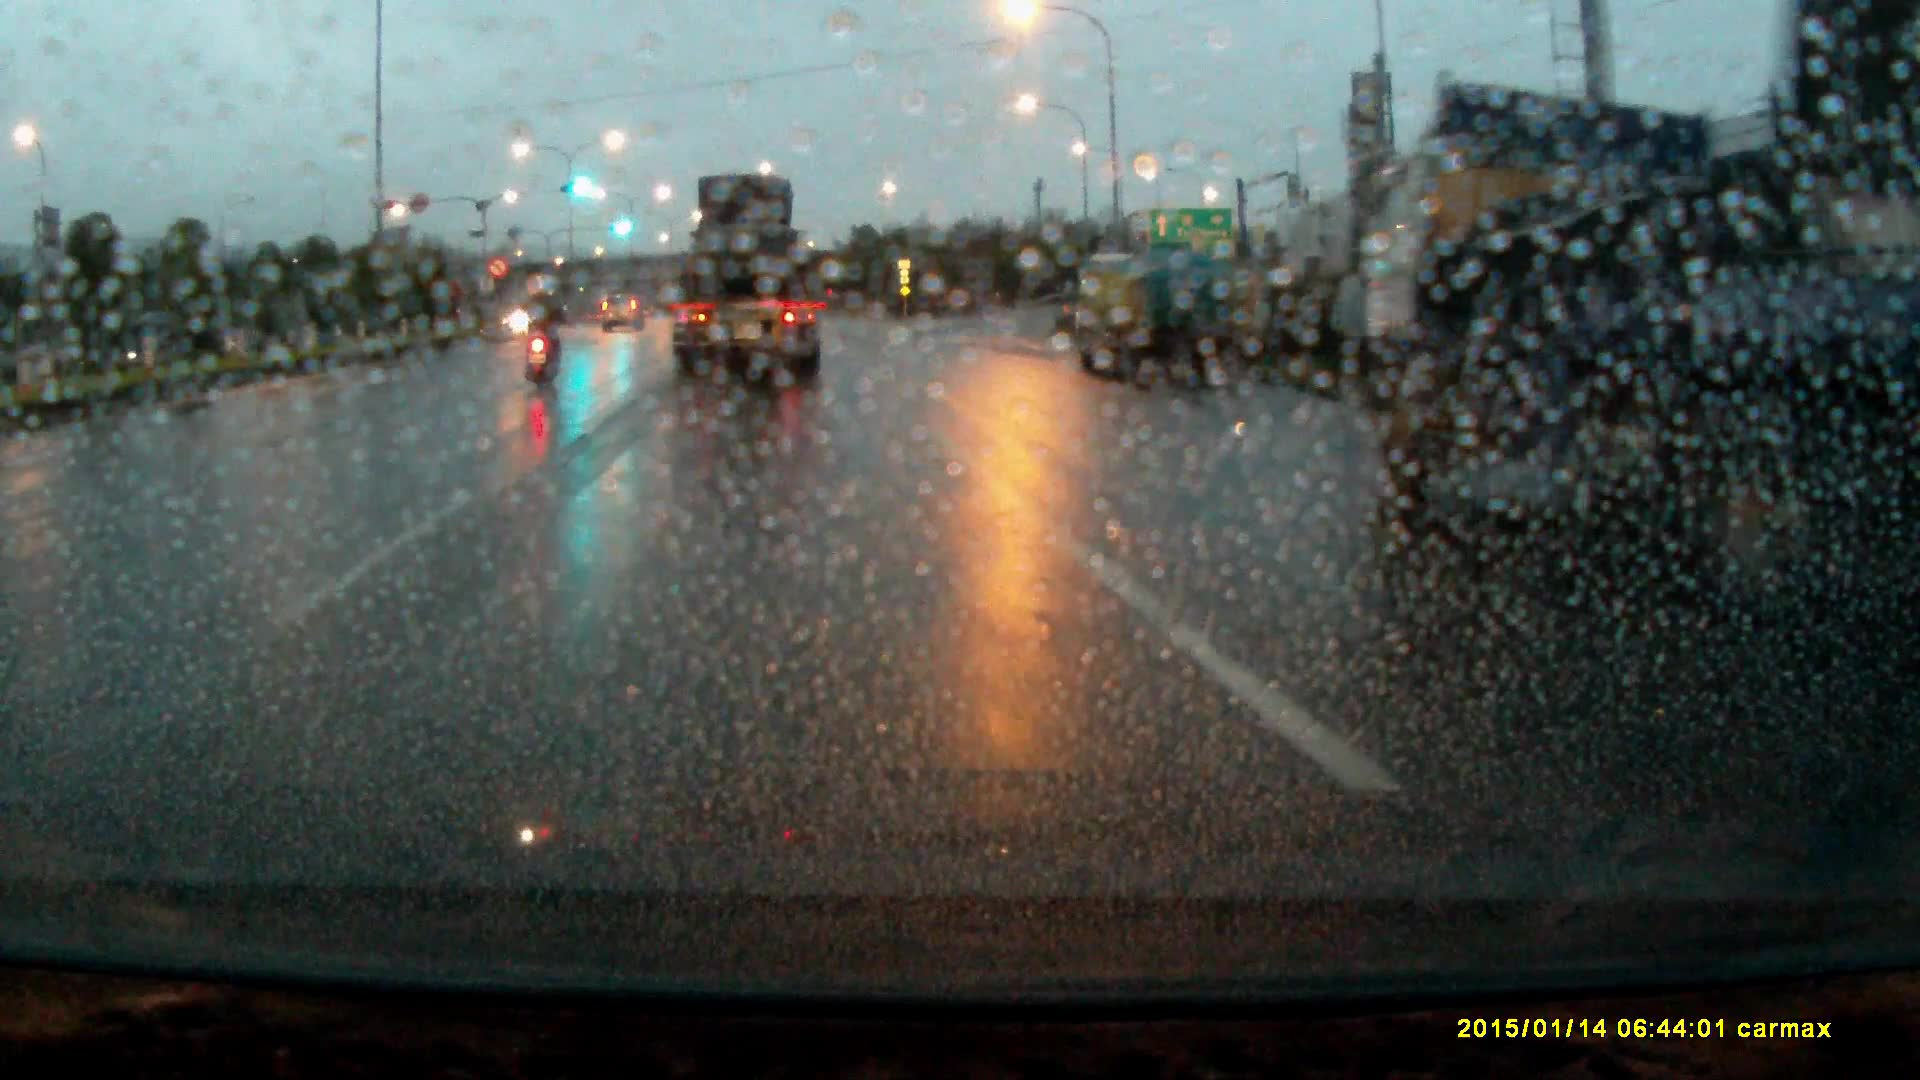rider: (520, 272, 573, 383)
vehicle: (1355, 86, 1920, 566), (666, 170, 826, 392), (1068, 255, 1243, 384), (601, 294, 647, 336)
